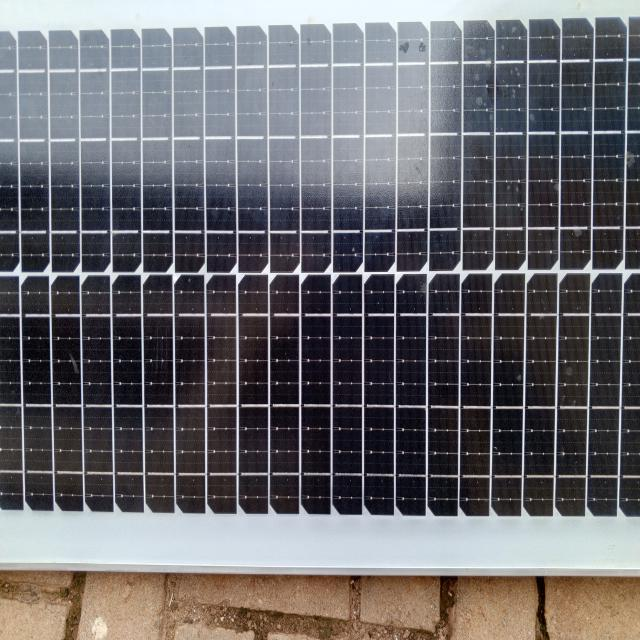Clean: (4, 8, 640, 546)
